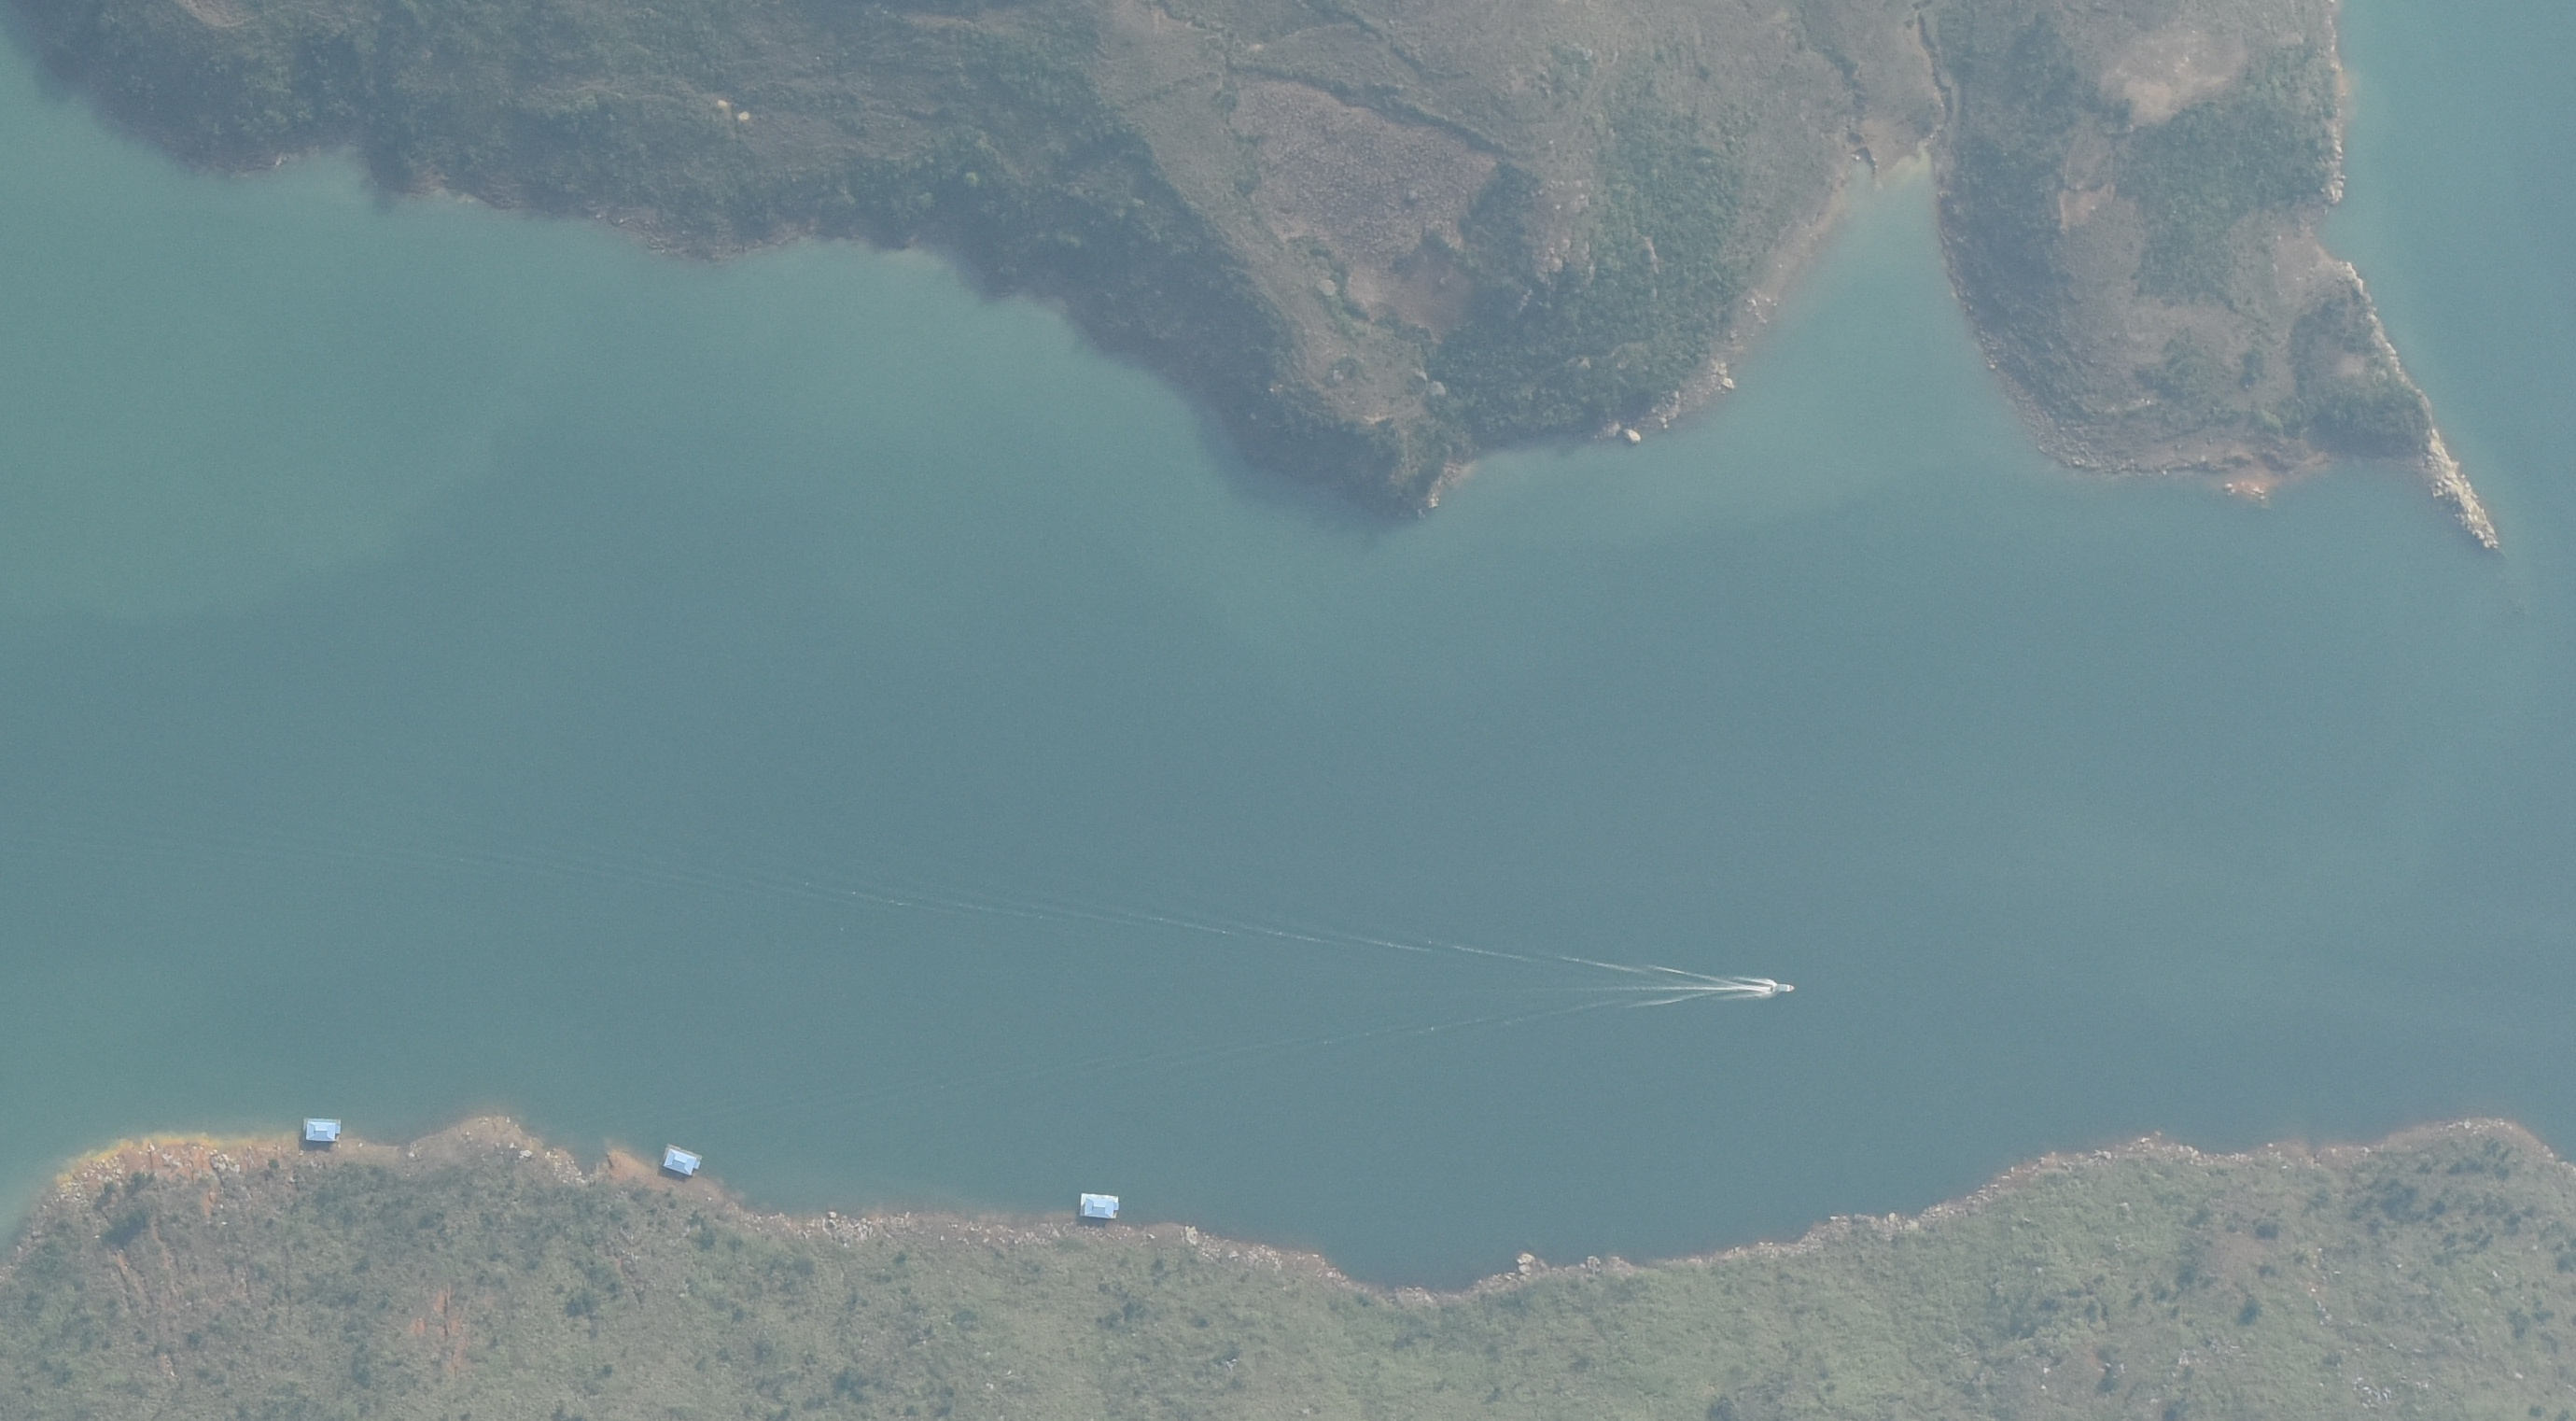prefabricated-house: (661, 1143, 701, 1178), (1077, 1192, 1124, 1221), (299, 1116, 345, 1146)
ship: (1773, 975, 1794, 998)
